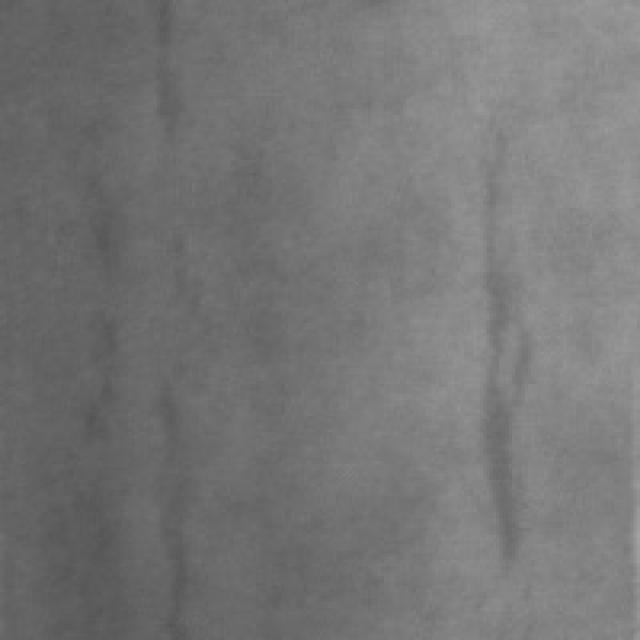inclusion: (458, 125, 547, 598), (147, 374, 211, 608), (140, 0, 202, 163)
